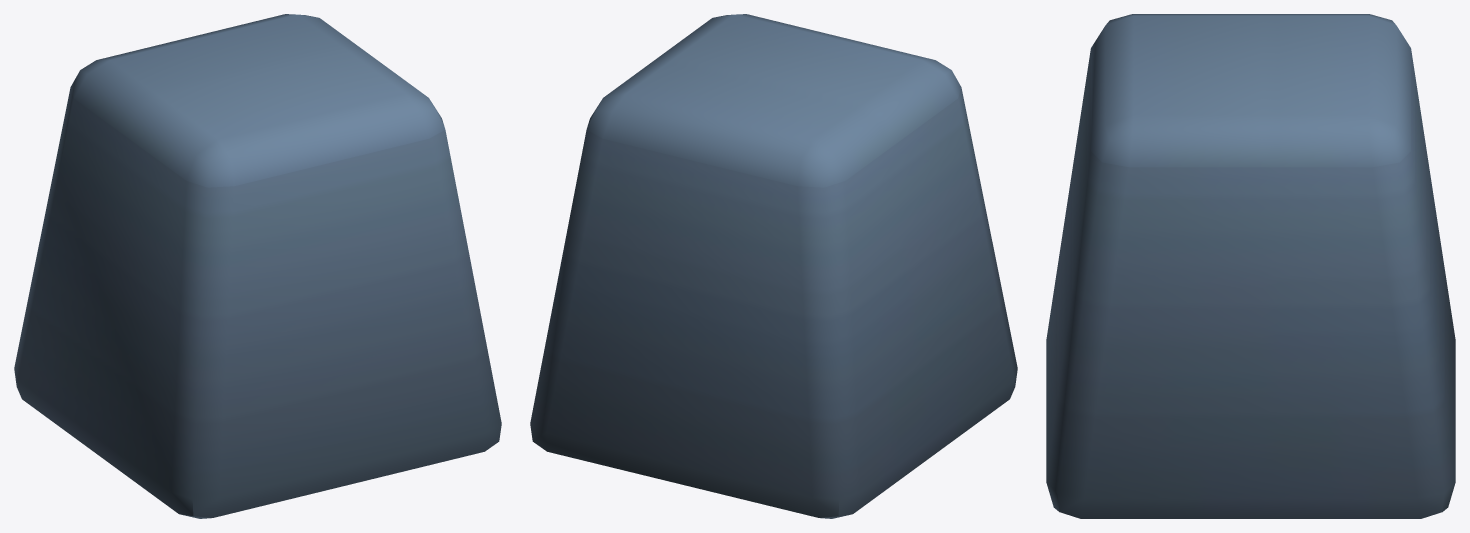
File: rock_2_c_color1.fb0ebf69.glb
The picture shows the model from 3 angles, left to right: view 1: azimuth 30°, elevation 25°; view 2: azimuth 150°, elevation 25°; view 3: azimuth 270°, elevation 25°; orthographic projection. The views are drawn at different scales.
Visible parts, largest first — view 1: Rock_2_C_Color1; view 2: Rock_2_C_Color1; view 3: Rock_2_C_Color1.
Part boxes in pixels (x1=…): Rock_2_C_Color1: x1=14, y1=14, x2=501, y2=518; Rock_2_C_Color1: x1=530, y1=14, x2=1017, y2=518; Rock_2_C_Color1: x1=1046, y1=14, x2=1455, y2=518.
Bounding box in the file's own units: 1.3 × 1.33 × 1.3.
1 material, 1 textured.
